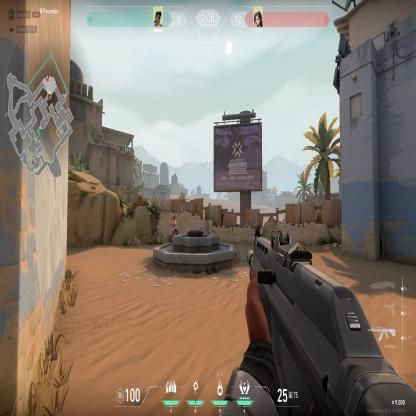enemy: (170, 214, 179, 234)
